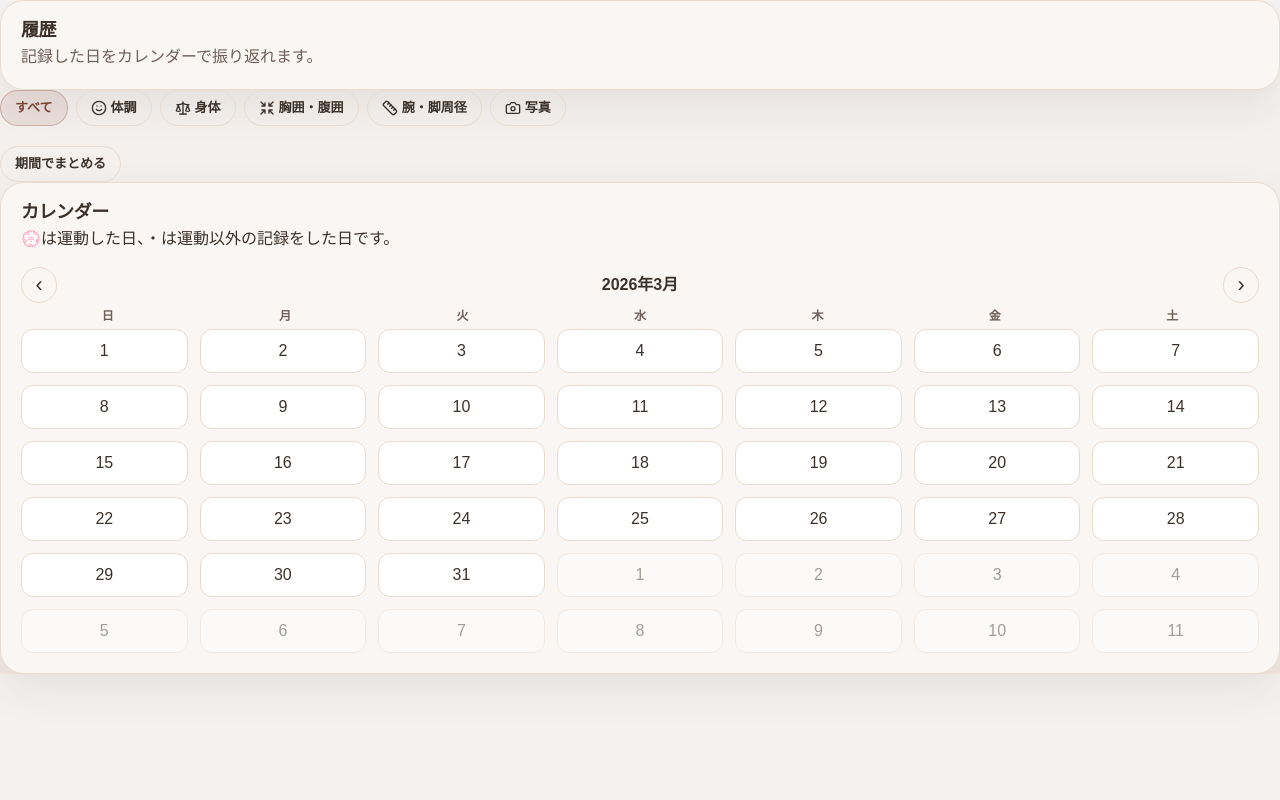
Test: opens the period summary dialog from the all view
Click the button "期間でまとめる" at (60, 164), box [0,146,121,182]
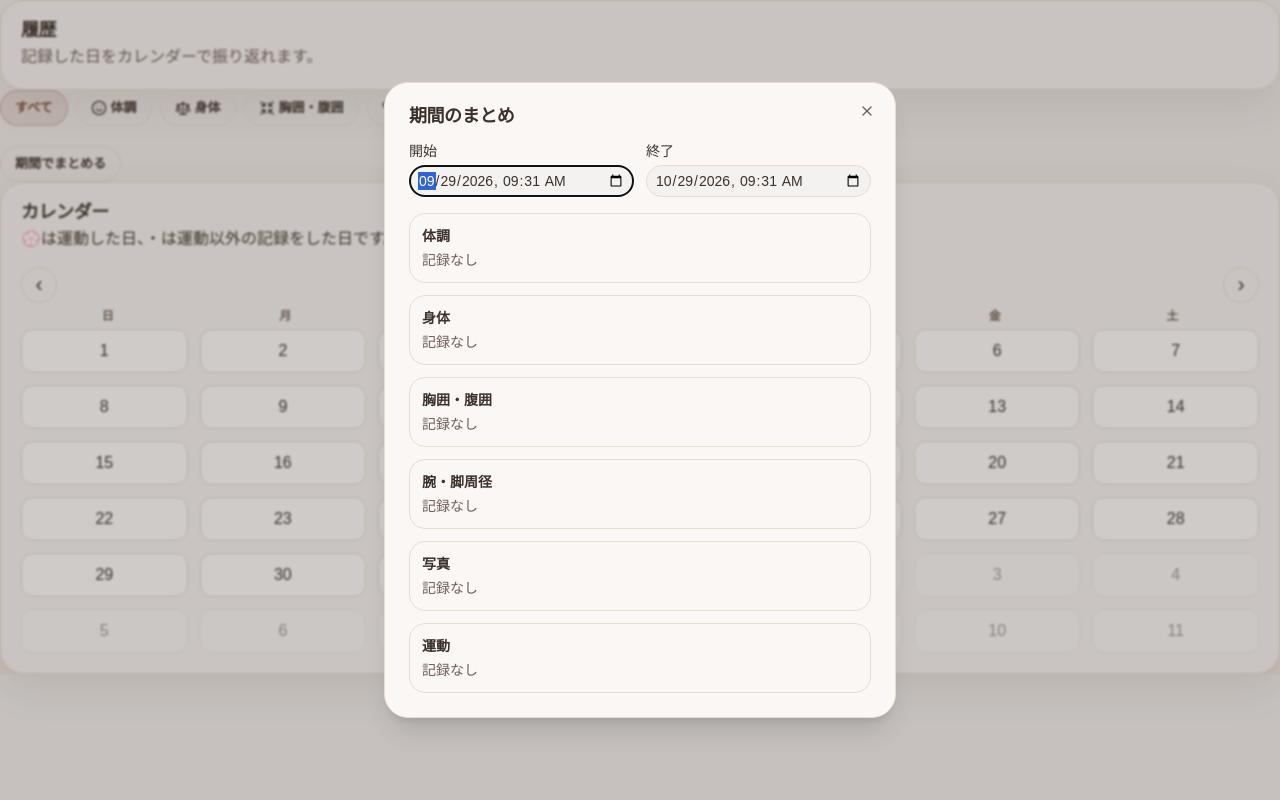
Expected: the dialog "期間のまとめ" is shown, [384,82,896,718]
